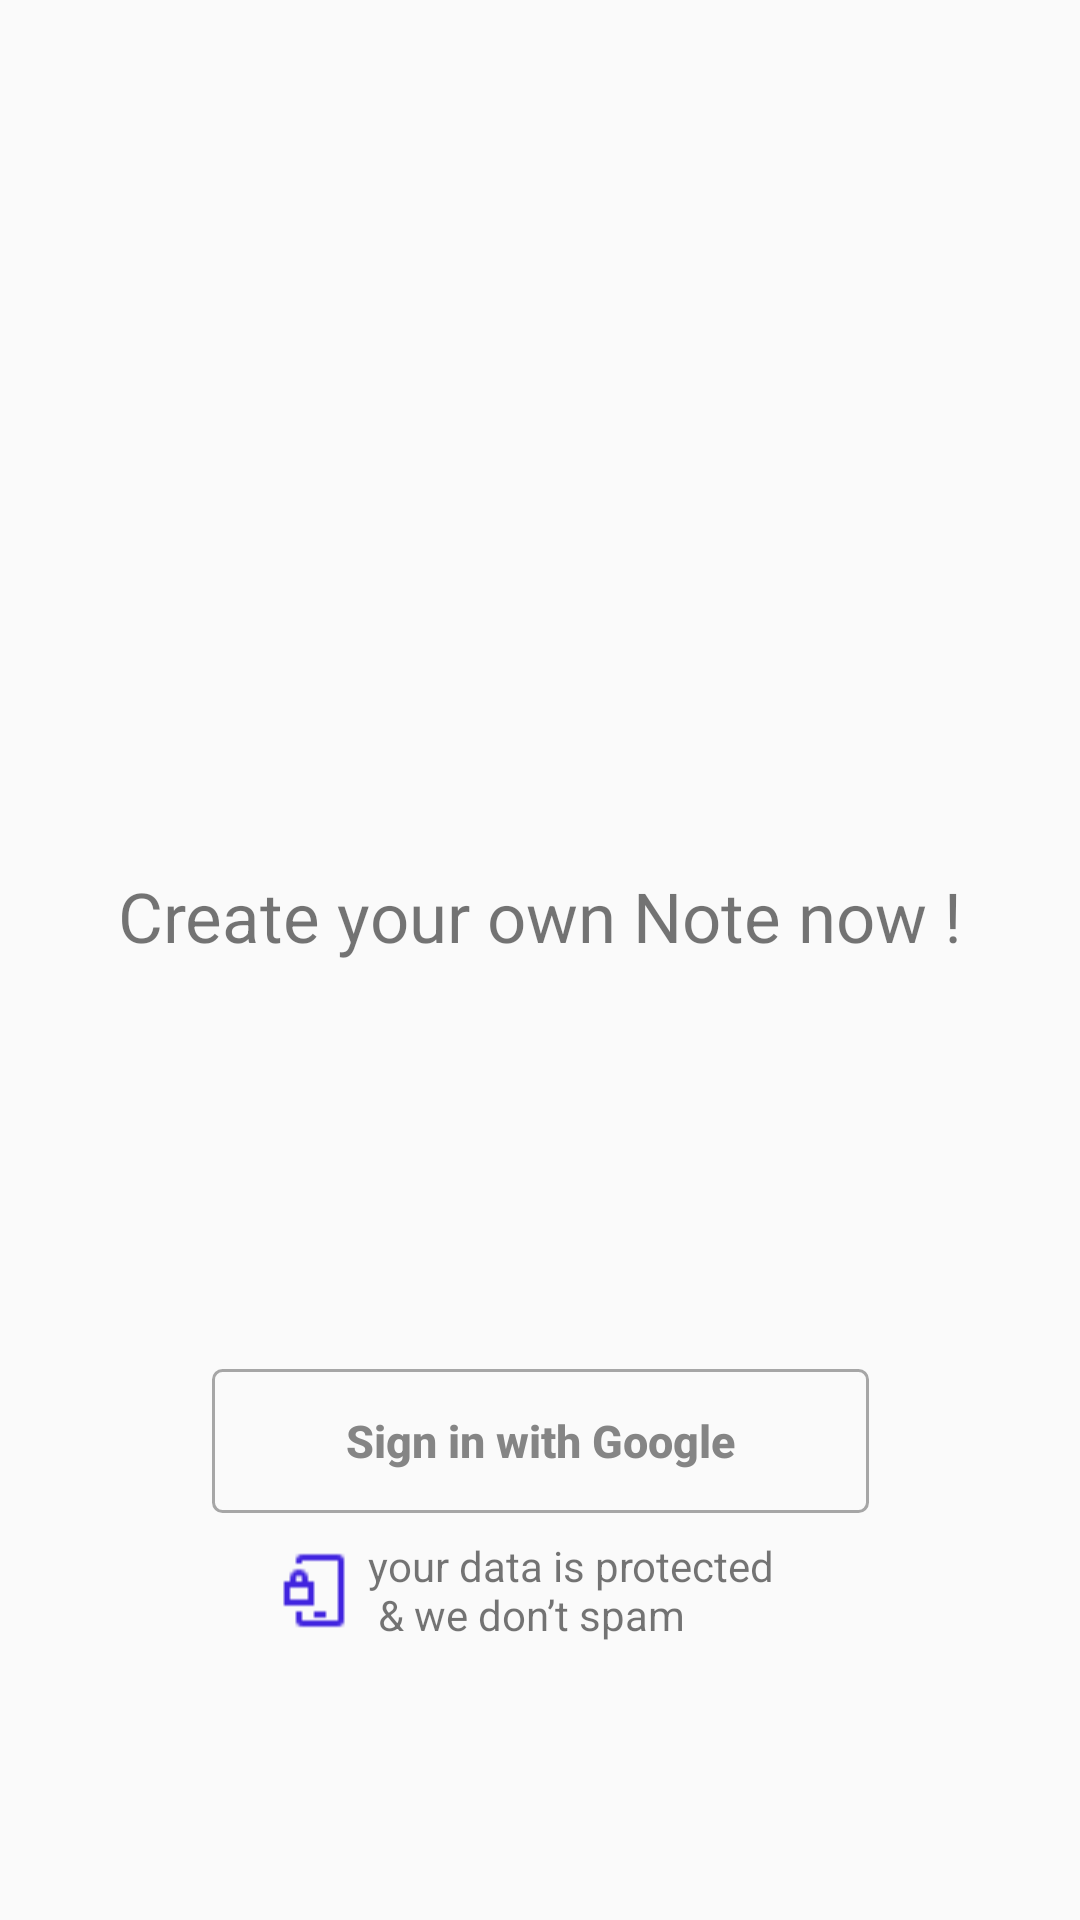

Named icons in this screenshot (1080w x 1920h) and their bounding boxes, (left=x1, top=y1, right=x2, bottom=y2):
security: (left=283, top=1553, right=345, bottom=1628)
